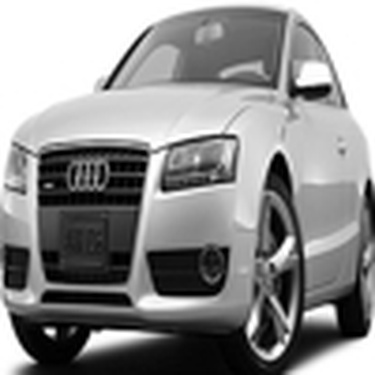car: (1, 1, 372, 373)
